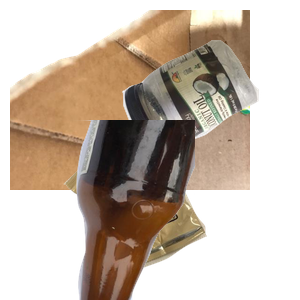cardboard: (10, 10, 250, 190)
glass: (60, 120, 300, 300)
plastic: (120, 37, 300, 185)
trash: (61, 127, 260, 300)
